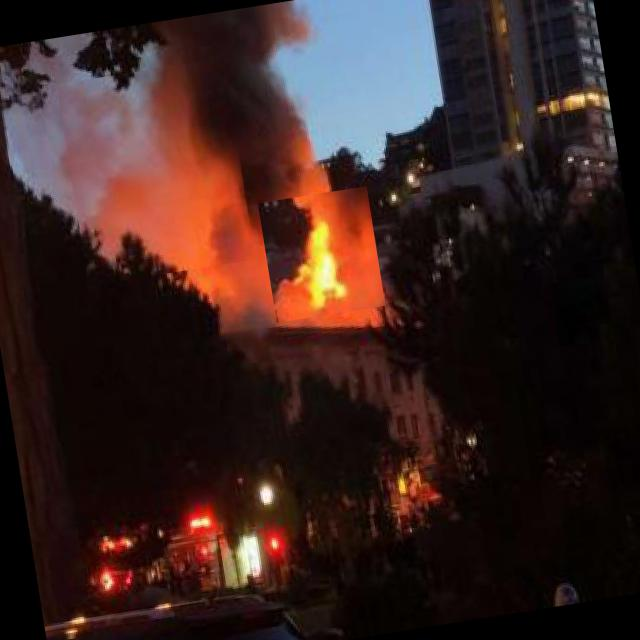fire: (57, 58, 256, 286), (258, 186, 386, 323)
